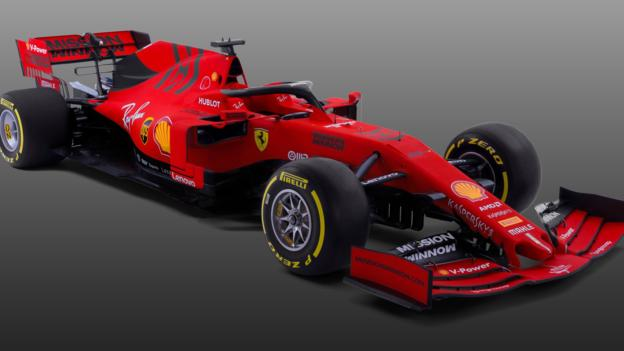f1_car: (1, 26, 624, 321)
